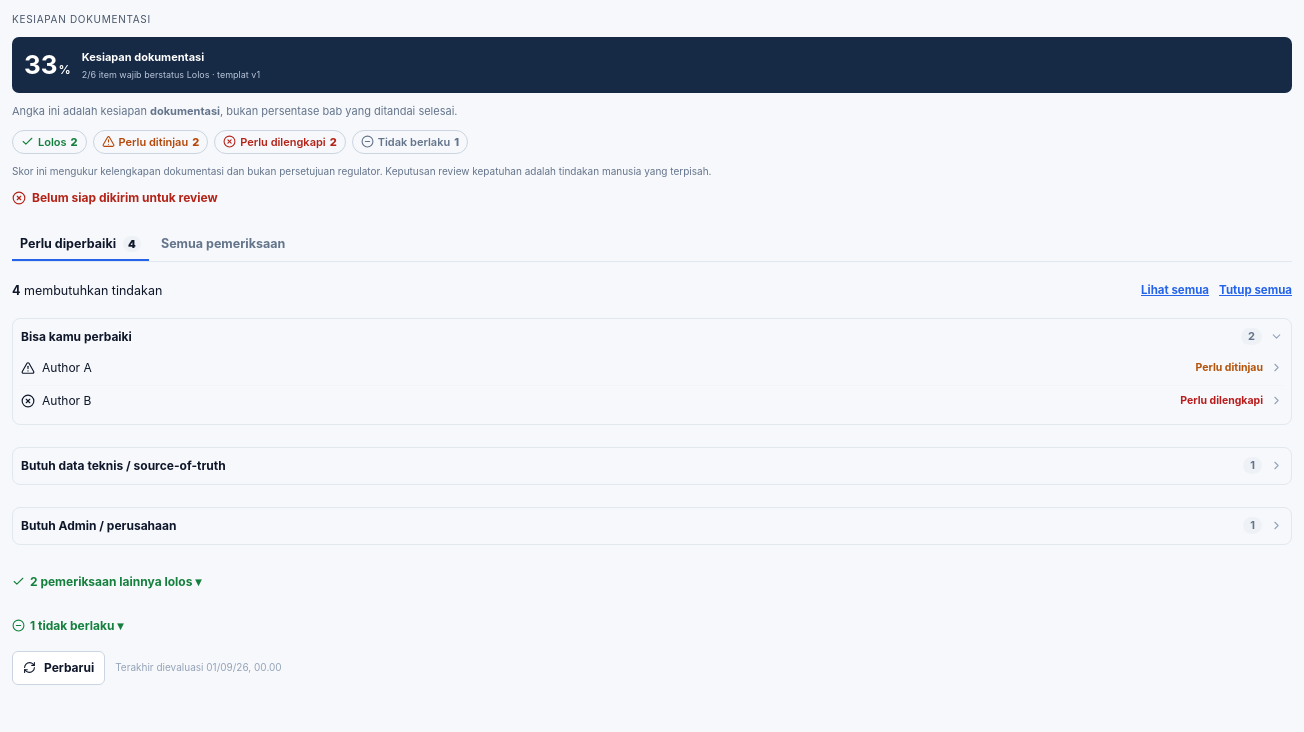
ValidationPanel — compact by default › routes the CTA by owner — source-of-truth points at developer / source-of-truth
Click the button "Butuh data teknis / source-of-truth 1".
click(123, 465)  # box [21,452,1283,480]
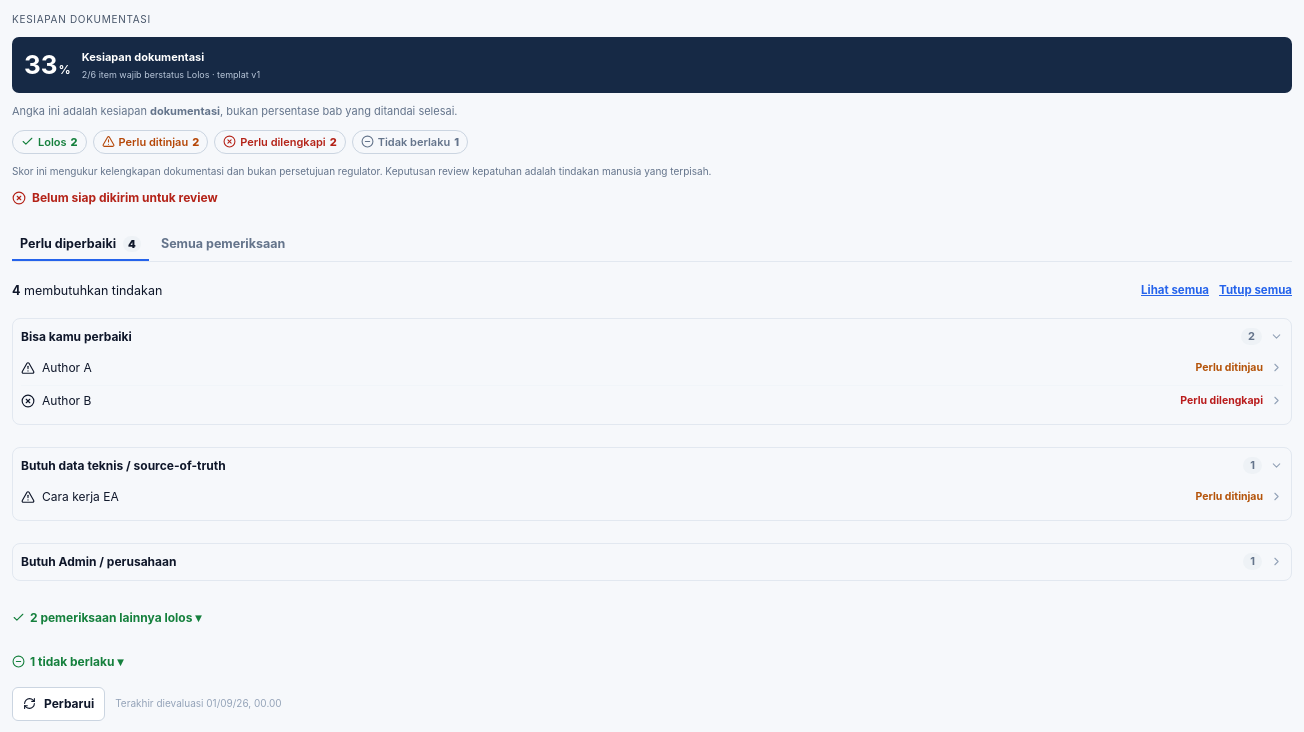
Click the button "Cara kerja EA Perlu ditinjau".
click(80, 496)  # box [21,482,1283,512]
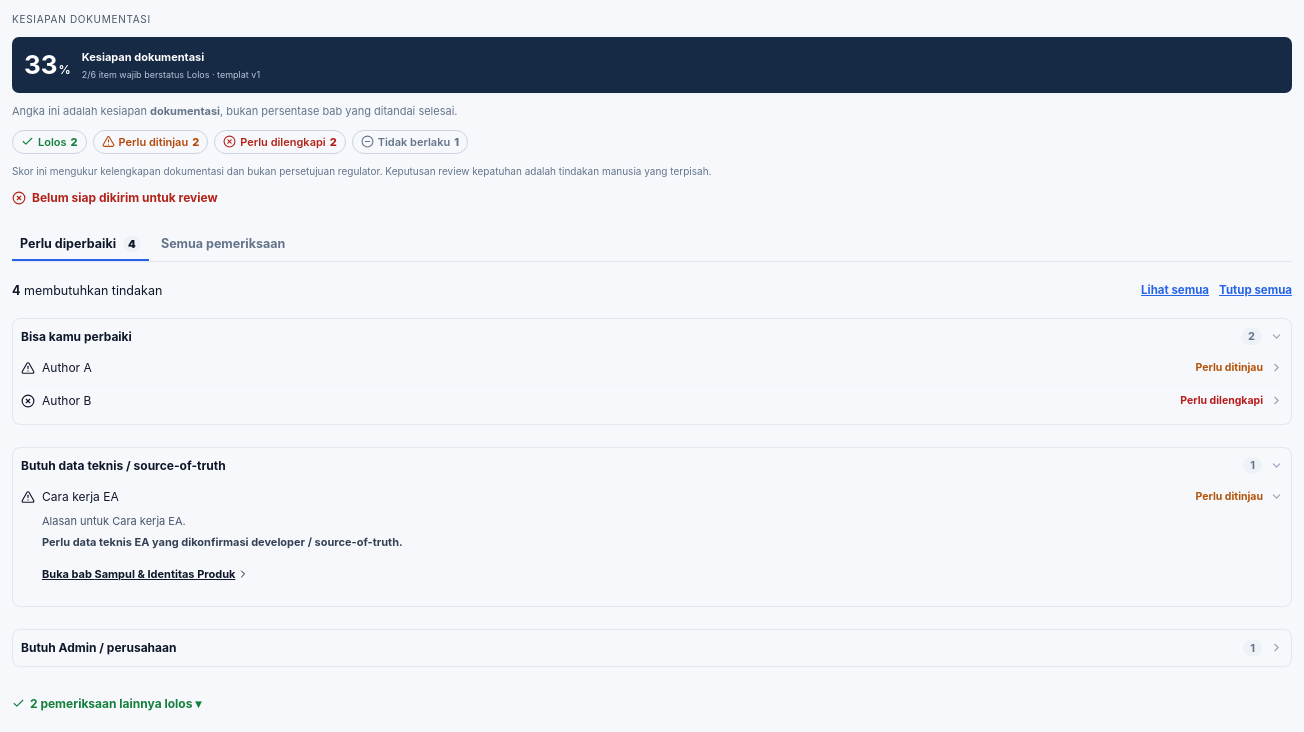
Result: the text "data teknis EA yang dikonfirmasi developer / source-of-truth" is shown at [42,535,403,549]
